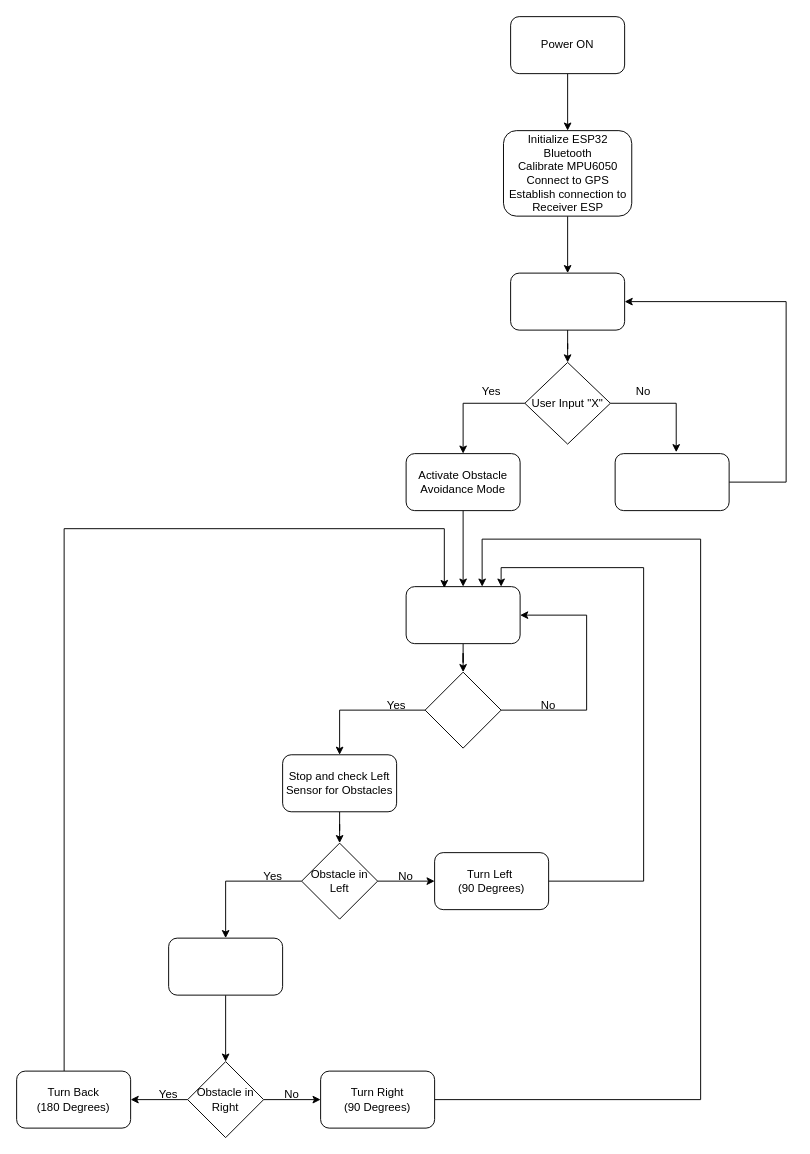
Image size: 810x1154. Some labels were removed from this diagram. The centre of each missing label's shape, as x and y in pixels:
Check List Sensor for Obstacles: point (225, 966)
Execute User Input: point (671, 482)
Move Forward and Check for Front Obstacles: point (462, 615)
Obstacle In Front: point (462, 709)
Wait For User Input: point (567, 301)
